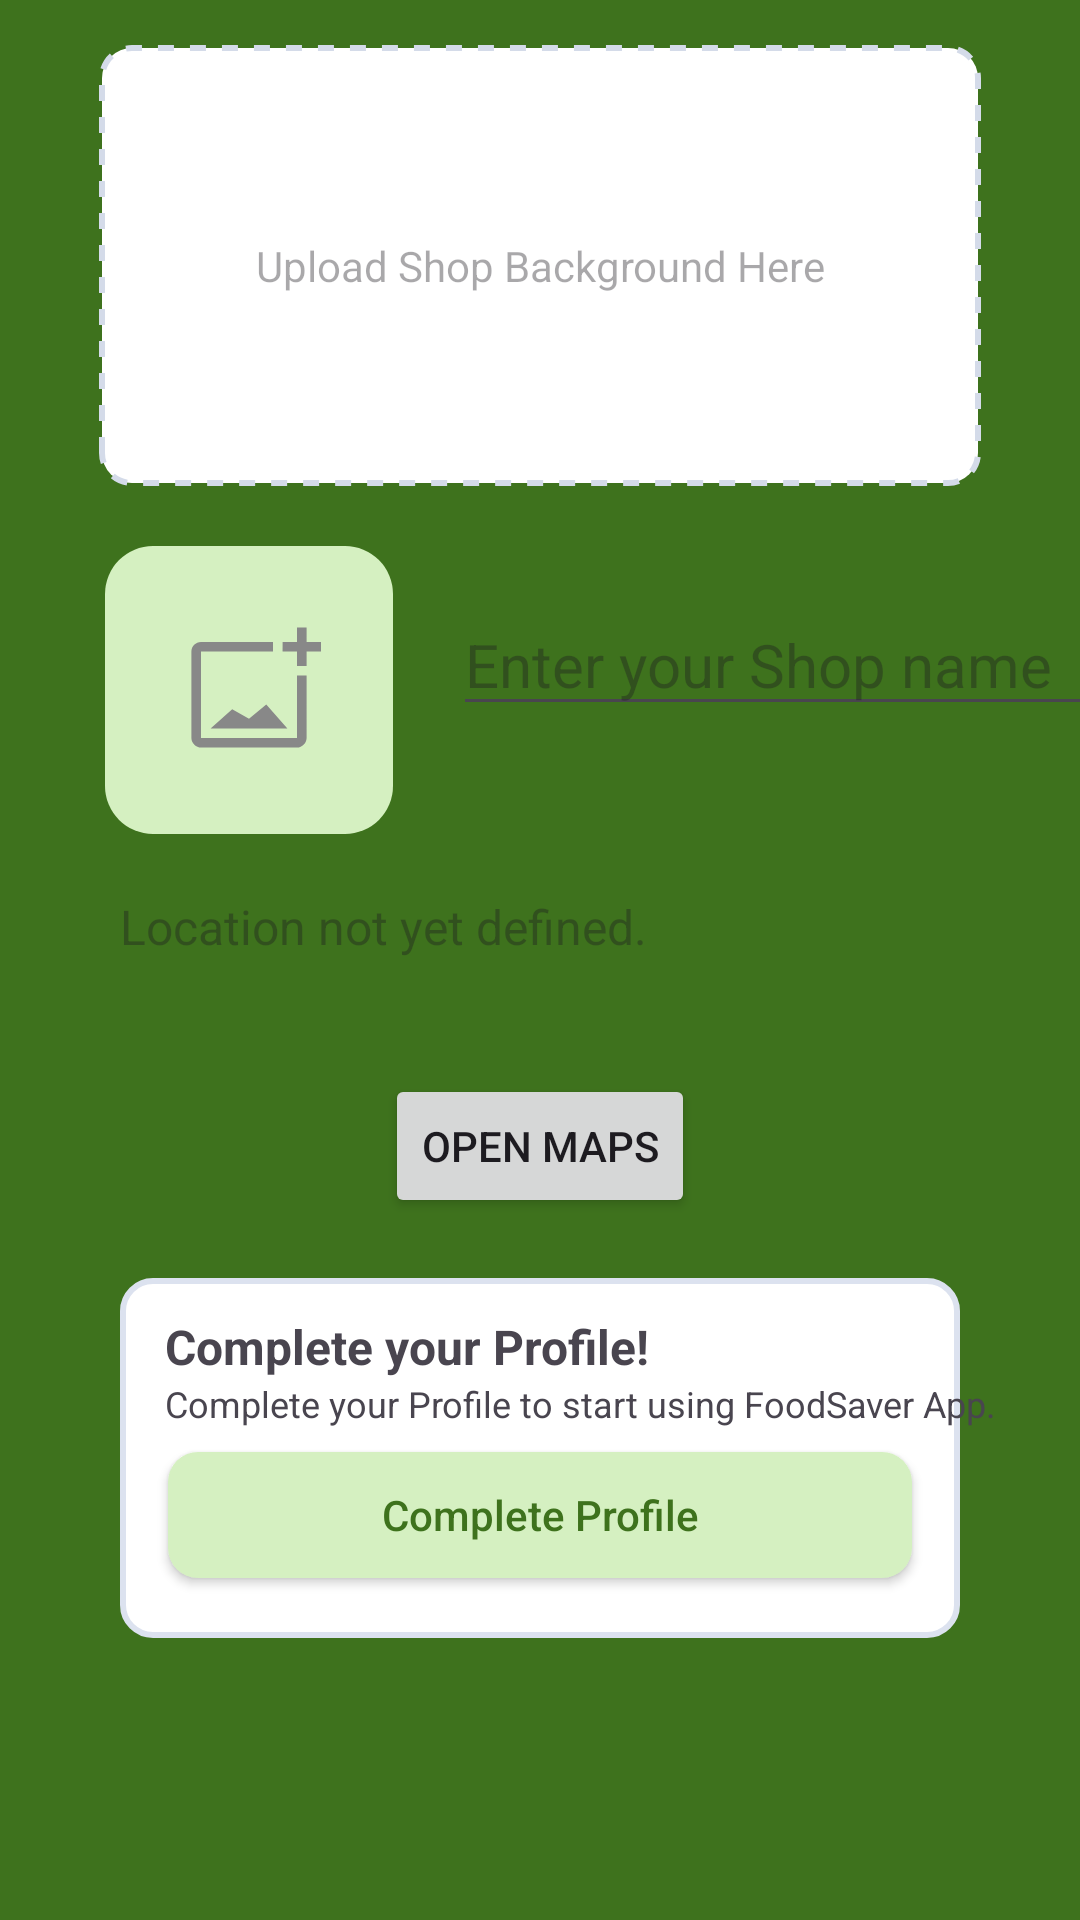

Screen size 1080x1920. Icon name, then its box in pixels as (x1, y1, x2, y2):
add: (105, 546, 393, 834)
